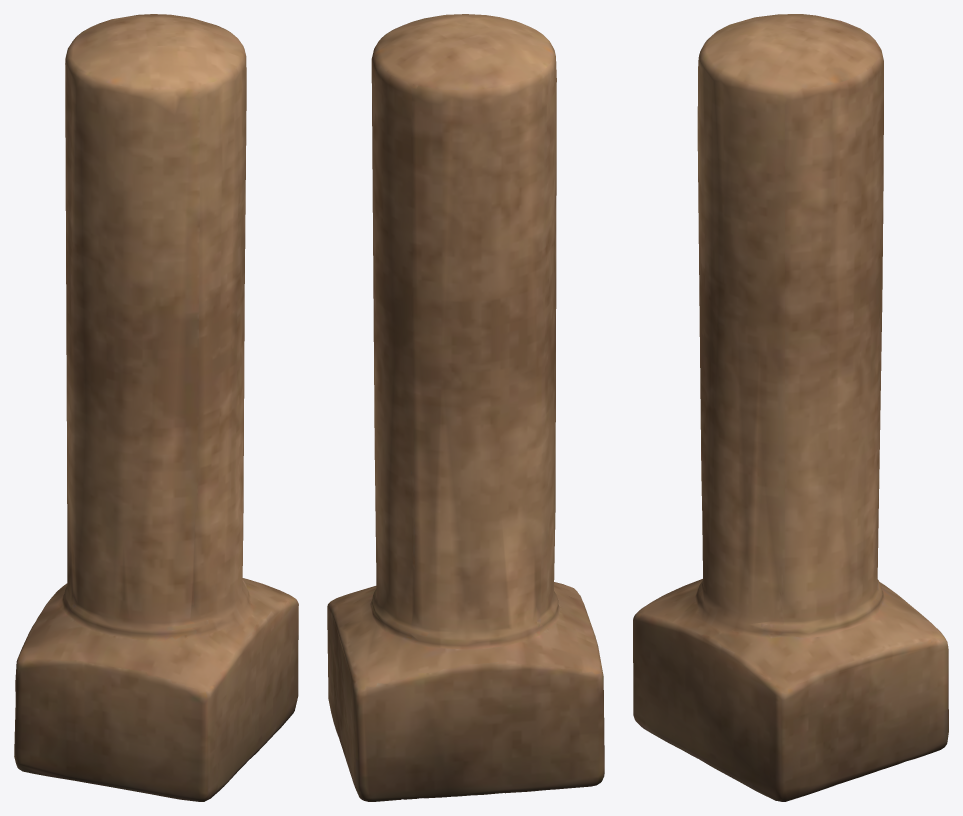
The model's file is rustic-sandstone-bollard-v001.glb.
3 renders of one model, left to right at view 1: azimuth 30°, elevation 25°; view 2: azimuth 150°, elevation 25°; view 3: azimuth 270°, elevation 25°, orthographic.
Parts seen in each view (by area): view 1: rustic-sandstone-bollard; view 2: rustic-sandstone-bollard; view 3: rustic-sandstone-bollard.
Boxes of the visible parts, bbox=[...] form: rustic-sandstone-bollard: bbox=[14, 14, 298, 801]; rustic-sandstone-bollard: bbox=[327, 14, 604, 801]; rustic-sandstone-bollard: bbox=[633, 14, 948, 801].
Bounding box in the file's own units: 0.3893 × 0.9497 × 0.3843.
1 material, 1 textured.
